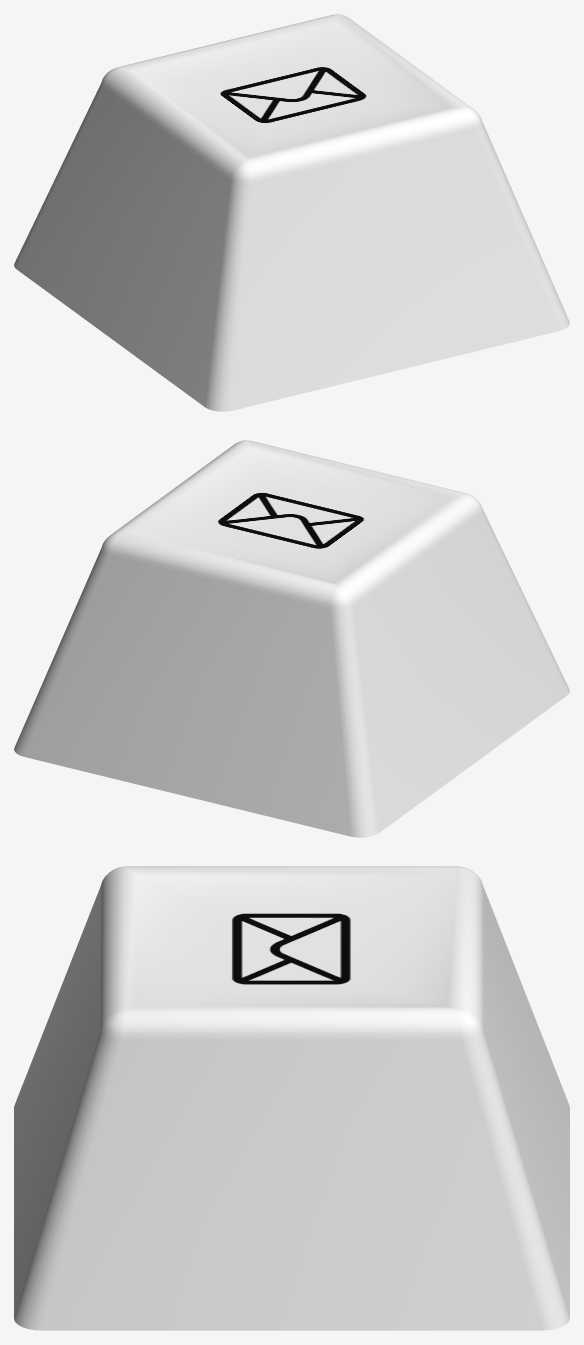
Rendered from mail.glb.
The picture shows the model from 3 angles, top to bottom: view 1: azimuth 30°, elevation 25°; view 2: azimuth 150°, elevation 25°; view 3: azimuth 270°, elevation 25°; orthographic projection. The views are drawn at different scales.
Visible parts, largest first — view 1: mail; view 2: mail; view 3: mail.
Part boxes in pixels (bbox=[...]): mail: bbox=[14, 14, 569, 411]; mail: bbox=[14, 440, 569, 837]; mail: bbox=[14, 866, 569, 1330].
Size of the model in its own units: 0.8942 by 0.4873 by 0.8942.
Materials: 1 (1 with a texture image).
